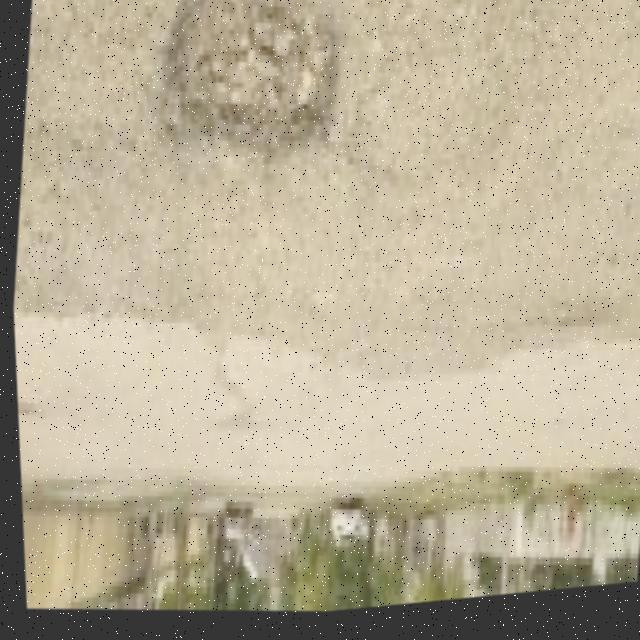pothole: (143, 0, 352, 196)
